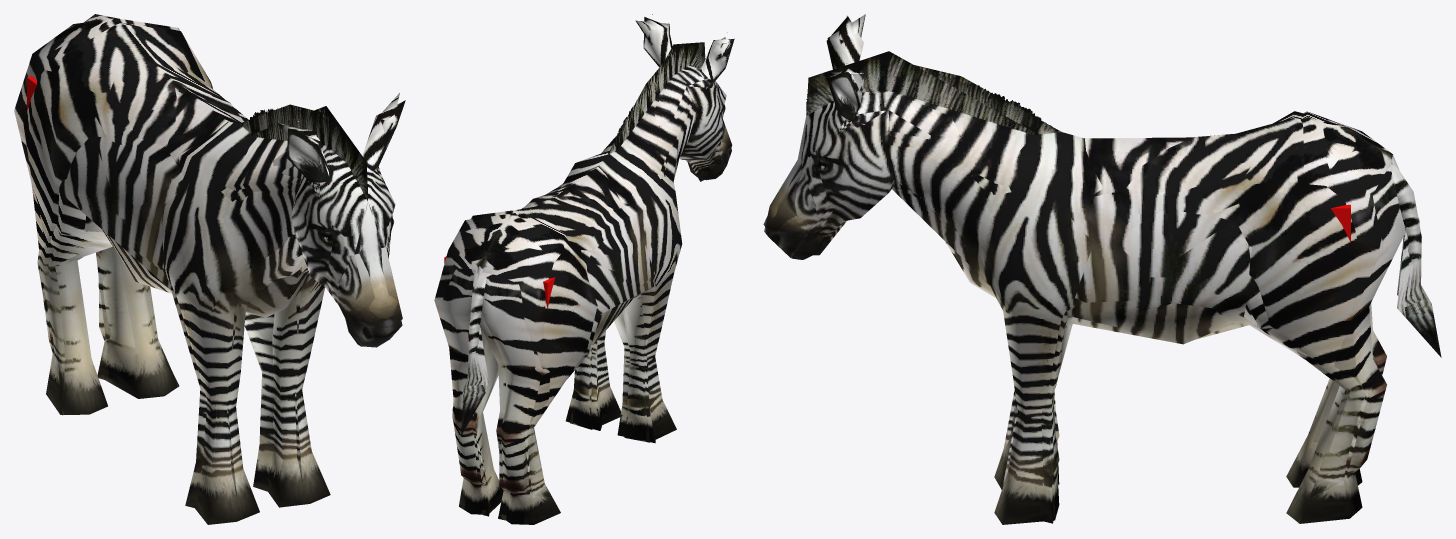
The model's file is male.obj.
The picture shows the model from 3 angles, left to right: view 1: azimuth 30°, elevation 25°; view 2: azimuth 150°, elevation 25°; view 3: azimuth 270°, elevation 25°; orthographic projection. The views are drawn at different scales.
Visible parts, largest first — view 1: male.001; view 2: male.001; view 3: male.001.
Part boxes in pixels (x1,y1,x2,y2): male.001: (14, 14, 405, 524); male.001: (434, 14, 734, 524); male.001: (763, 14, 1441, 524).
Bounding box in the file's own units: 0.7864 × 2 × 2.7.
11 materials, 4 textured.
